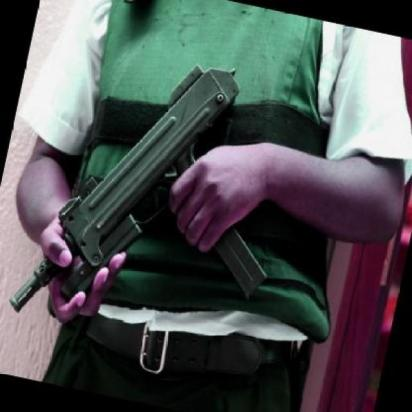Gun: (0, 20, 302, 384)
